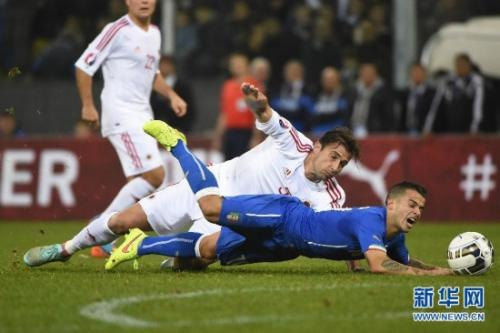10+: (17, 1, 493, 267)
down: (175, 161, 446, 286), (251, 105, 382, 196)
